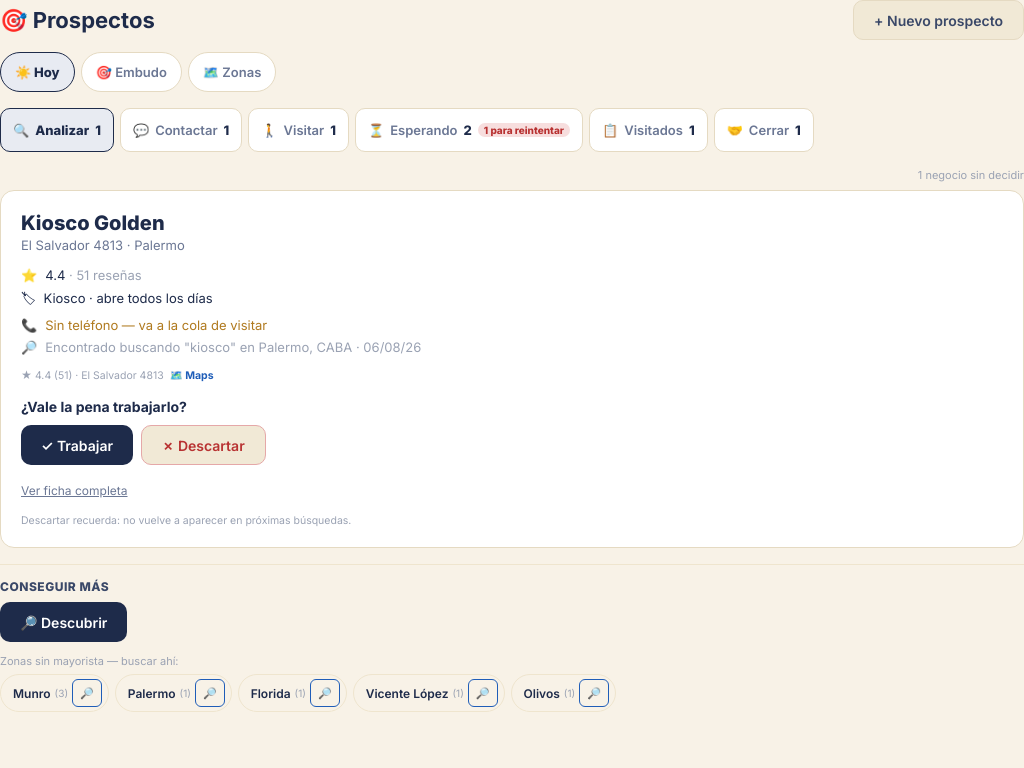
Prospectos — colas de ejecución: misma gramática, acción primaria propia › tocar cualquier card abre la Ficha (el expediente, desde cualquier etapa)
This screenshot has width=1024, height=768.
Click the button "💬 Contactar 1". click: (181, 130)
box: x1=120 y1=108 x2=242 y2=152
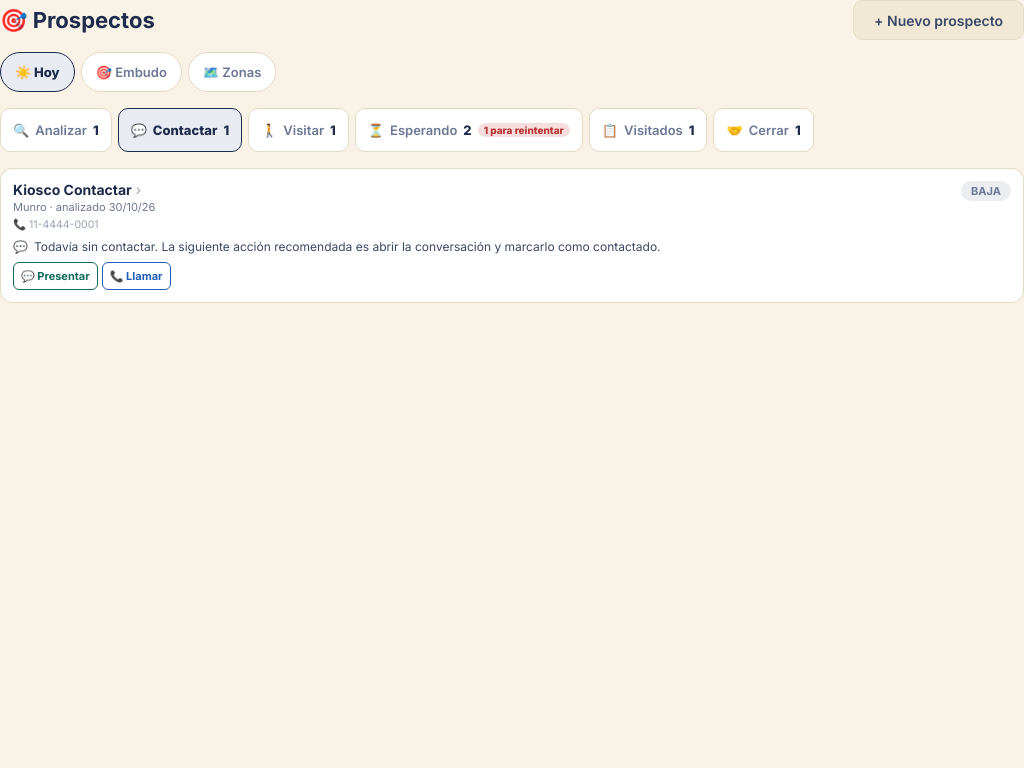
Click the text "Kiosco Contactar ›". click: (77, 190)
box: x1=13 y1=181 x2=141 y2=198
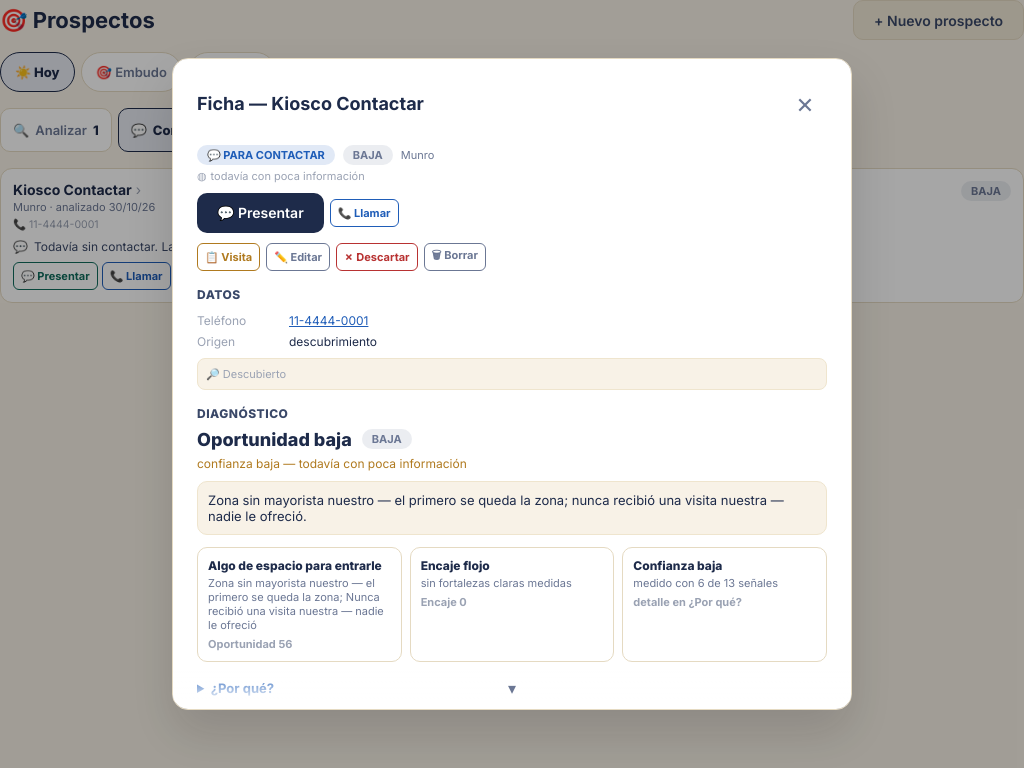
Check: the heading "Ficha — Kiosco Contactar" is shown, box x1=197 y1=93 x2=424 y2=114
